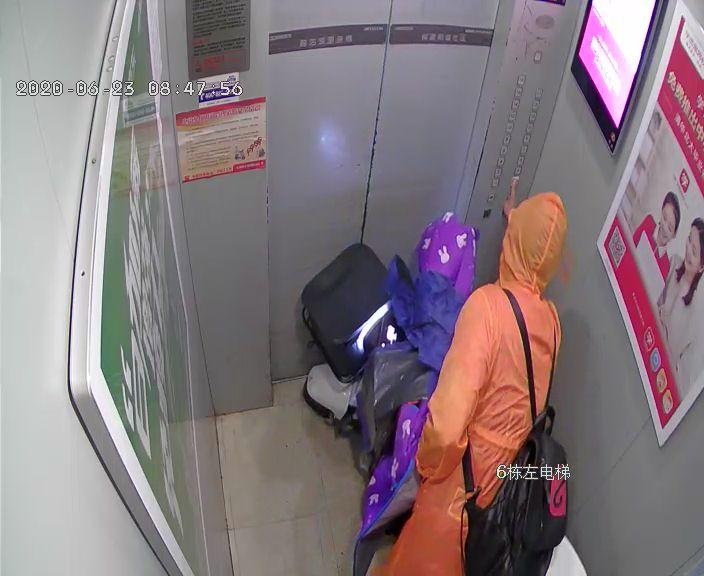Electric-bicycle: (302, 222, 474, 457)
